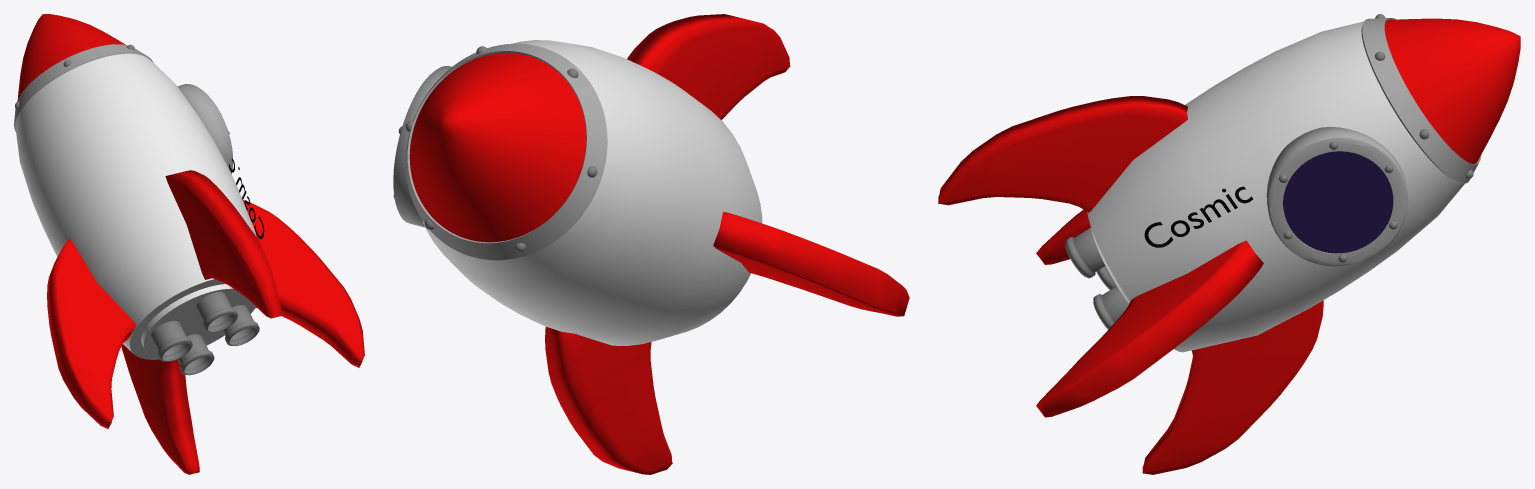
Rendered from toy_rocket.glb.
3 renders of one model, left to right at view 1: azimuth 30°, elevation 25°; view 2: azimuth 150°, elevation 25°; view 3: azimuth 270°, elevation 25°, orthographic. The views are drawn at different scales.
Visible parts, largest first — view 1: Cylinder, Cube, Cylinder.005, Cylinder.001, Cylinder.002, Cylinder.003; view 2: Cylinder, Cube, Cylinder.001, Cylinder.002, Cylinder.003; view 3: Cylinder, Cube, Cylinder.001, Cylinder.004, Cylinder.003, Cylinder.002, Cylinder.005, Text.
Part boxes in pixels (left/top/right/bottom): Cylinder: left=15, top=53, right=256, bottom=359; Cube: left=47, top=170, right=364, bottom=474; Cylinder.005: left=150, top=291, right=259, bottom=375; Cylinder.001: left=17, top=14, right=125, bottom=99; Cylinder.002: left=14, top=44, right=153, bottom=131; Cylinder.003: left=177, top=84, right=232, bottom=174; Cylinder: left=422, top=40, right=762, bottom=345; Cube: left=545, top=14, right=909, bottom=474; Cylinder.001: left=409, top=53, right=586, bottom=242; Cylinder.002: left=405, top=43, right=607, bottom=260; Cylinder.003: left=393, top=66, right=451, bottom=227; Cylinder: left=1087, top=21, right=1464, bottom=352; Cube: left=938, top=96, right=1323, bottom=474; Cylinder.001: left=1384, top=18, right=1520, bottom=163; Cylinder.004: left=1283, top=151, right=1393, bottom=253; Cylinder.003: left=1266, top=126, right=1408, bottom=266; Cylinder.002: left=1361, top=18, right=1481, bottom=183; Cylinder.005: left=1065, top=227, right=1128, bottom=329; Text: left=1144, top=186, right=1252, bottom=247.
Bounding box in the file's own units: 3.25 × 3.96 × 4.69.
